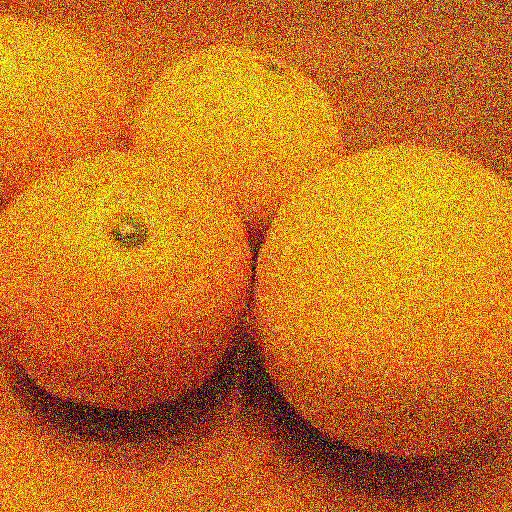fruit: (118, 162, 406, 512), (66, 76, 228, 230), (12, 91, 68, 254), (0, 149, 21, 512)
